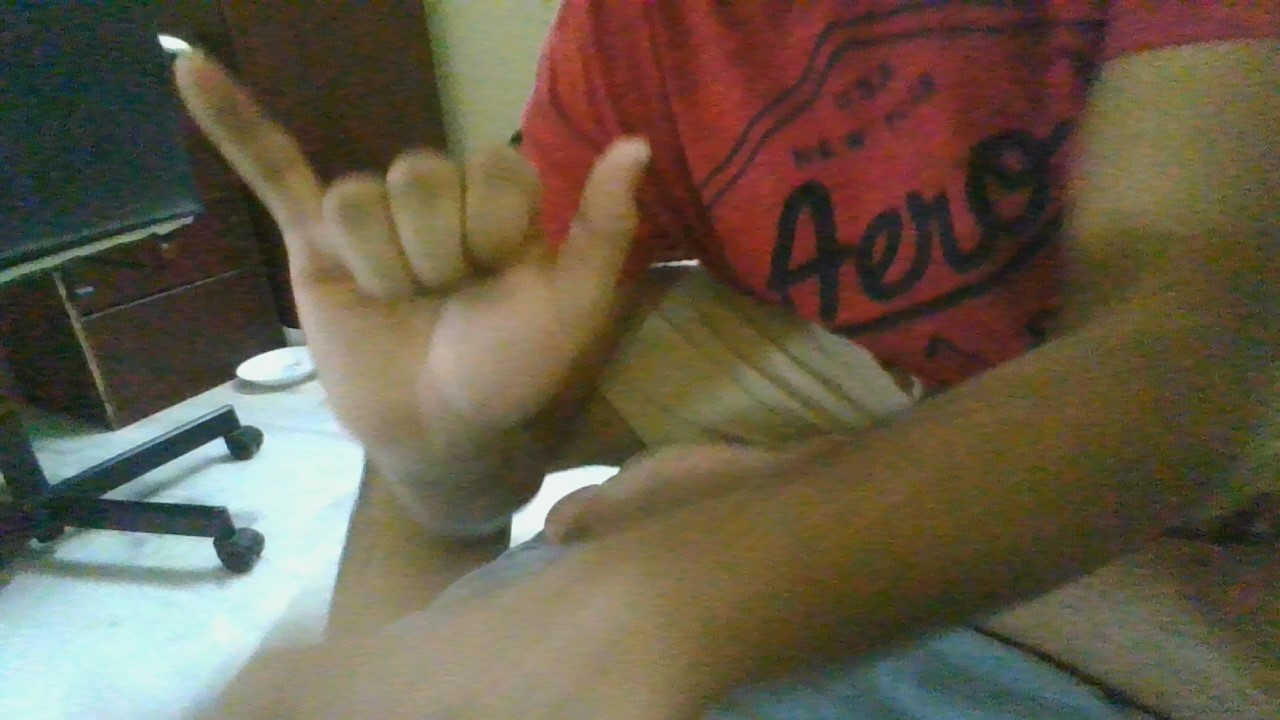y: (162, 43, 660, 454)
